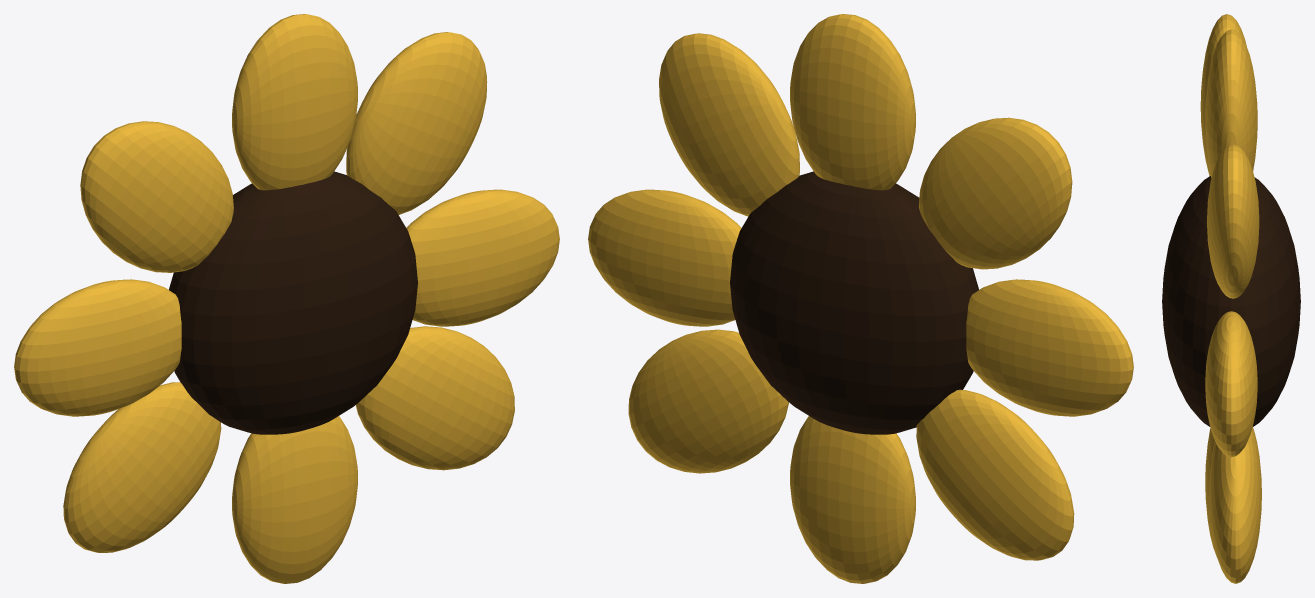
The model's file is Sunflower.fbx.
3 views of the same model, side by side, from view 1: azimuth 30°, elevation 25°; view 2: azimuth 150°, elevation 25°; view 3: azimuth 270°, elevation 25° (orthographic). The views are drawn at different scales.
Parts seen in each view (by area): view 1: Middle, Petal.004, Petal, Petal.008, Petal.001, Petal.007, Petal.006, Petal.002, Petal.003; view 2: Middle, Petal.008, Petal, Petal.004, Petal.007, Petal.001, Petal.006, Petal.002, Petal.003; view 3: Middle, Petal.007, Petal.006, Petal.003, Petal.001, Petal.004, Petal.002.
Part boxes in pixels (x1,y1,x2,y2): Middle: (169,171,417,434); Petal.004: (80,121,233,272); Petal: (14,279,181,416); Petal.008: (63,382,221,552); Petal.001: (232,14,357,190); Petal.007: (346,32,487,214); Petal.006: (356,326,514,470); Petal.002: (232,416,357,583); Petal.003: (406,189,559,326); Middle: (730,171,978,434); Petal.008: (916,389,1074,560); Petal: (966,279,1133,416); Petal.004: (918,117,1072,269); Petal.007: (659,33,799,216); Petal.001: (790,14,915,190); Petal.006: (628,329,788,473); Petal.002: (790,416,915,583); Petal.003: (588,189,741,326); Middle: (1162,176,1300,426); Petal.007: (1207,144,1259,298); Petal.006: (1209,427,1261,583); Petal.003: (1205,311,1257,457); Petal.001: (1205,29,1257,177); Petal.004: (1200,14,1246,175); Petal.002: (1205,428,1217,557).
Size of the model in its own units: 130 by 130 by 30.56.
